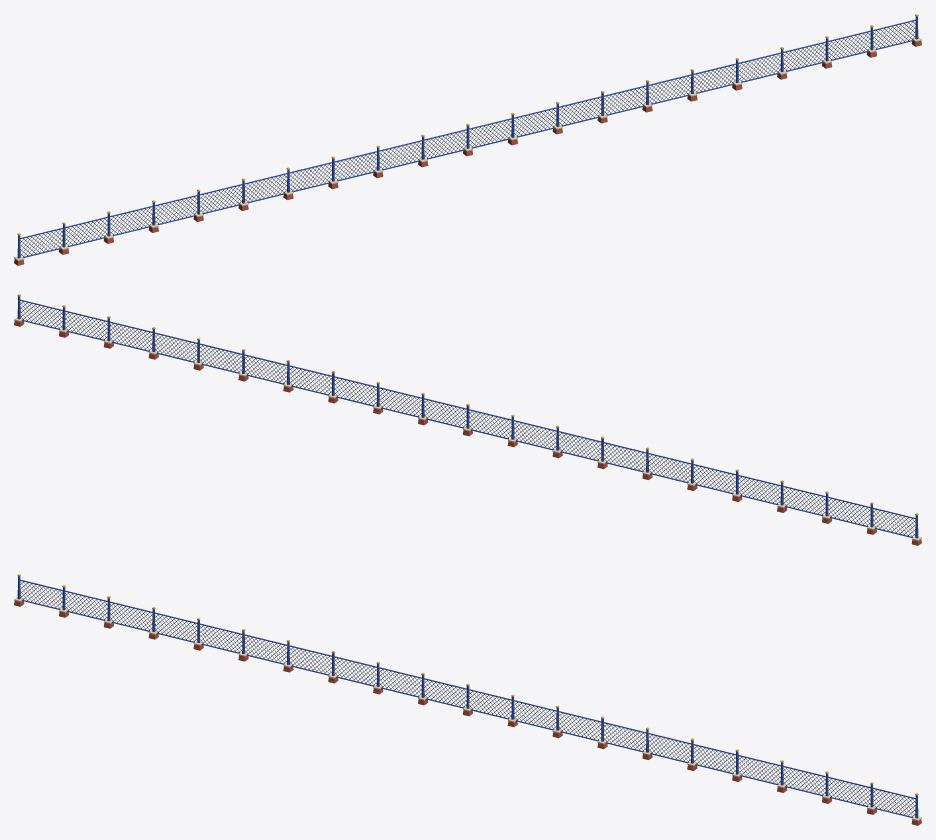
Rendered from fence_4.glb.
The picture shows the model from 3 angles, top to bottom: view 1: azimuth 30°, elevation 25°; view 2: azimuth 150°, elevation 25°; view 3: azimuth 330°, elevation 25°; orthographic projection.
Parts seen in each view (by area): view 1: fence_4; view 2: fence_4; view 3: fence_4.
Boxes of the visible parts, x1=… form: fence_4: x1=14, y1=14, x2=921, y2=265; fence_4: x1=14, y1=294, x2=921, y2=545; fence_4: x1=14, y1=574, x2=921, y2=825.
Size of the model in its own units: 58.44 by 1.87 by 0.4439.
